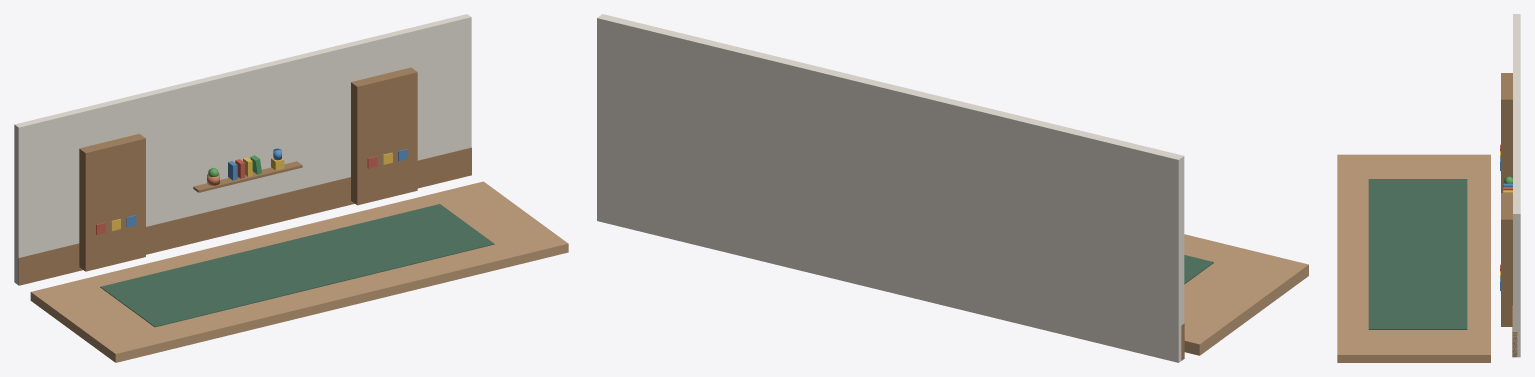
The model's file is toy_room_study.glb.
3 renders of one model, left to right at view 1: azimuth 30°, elevation 25°; view 2: azimuth 150°, elevation 25°; view 3: azimuth 270°, elevation 25°, orthographic. The views are drawn at different scales.
Parts seen in each view (by area): view 1: PlayroomWall, StudyDeskTop, SageDeskMat, Cube.014, Cube, Cube.004, Cube.008; view 2: PlayroomWall, StudyDeskTop; view 3: StudyDeskTop, SageDeskMat, PlayroomWall, Cube.004, Cube, Cube.014.
Boxes of the visible parts, x1,y1,x2,y2 form: PlayroomWall: (14,14,471,284); StudyDeskTop: (30,181,568,362); SageDeskMat: (100,204,494,327); Cube.014: (18,147,471,285); Cube: (79,134,145,271); Cube.004: (351,67,417,205); Cube.008: (193,161,302,192); PlayroomWall: (597,14,1184,362); StudyDeskTop: (1184,234,1308,355); StudyDeskTop: (1337,154,1490,362); SageDeskMat: (1368,179,1467,329); PlayroomWall: (1513,14,1520,357); Cube.004: (1501,193,1512,326); Cube: (1501,73,1512,192); Cube.014: (1512,305,1517,357).
Bounding box in the file's own units: 24 × 8.32 × 9.3.
